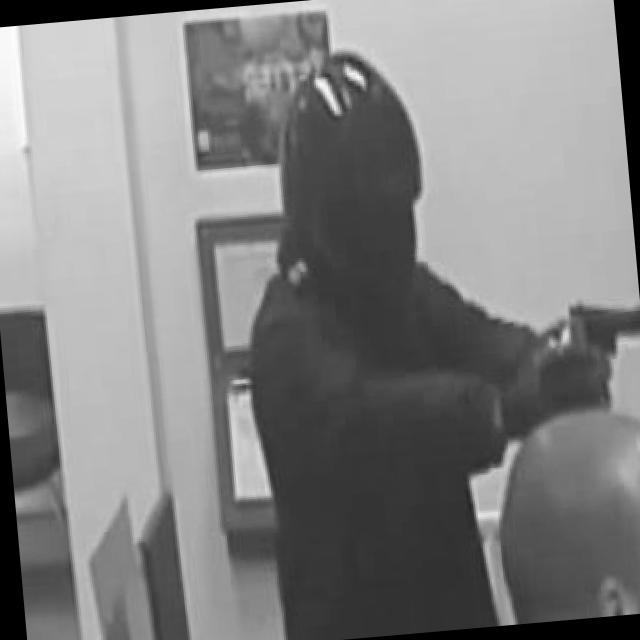Guns: (546, 278, 640, 384)
